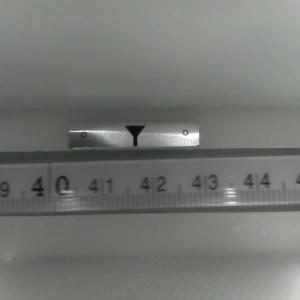0: (54, 176, 70, 196)
1: (105, 178, 112, 193)
2: (156, 176, 166, 192)
3: (207, 175, 218, 190)
4: (30, 177, 46, 197), (139, 176, 150, 192), (243, 173, 254, 188), (259, 173, 270, 188), (191, 175, 201, 191), (87, 179, 98, 193), (294, 171, 300, 187)
9: (0, 180, 10, 197)
finger: (122, 126, 145, 147)
